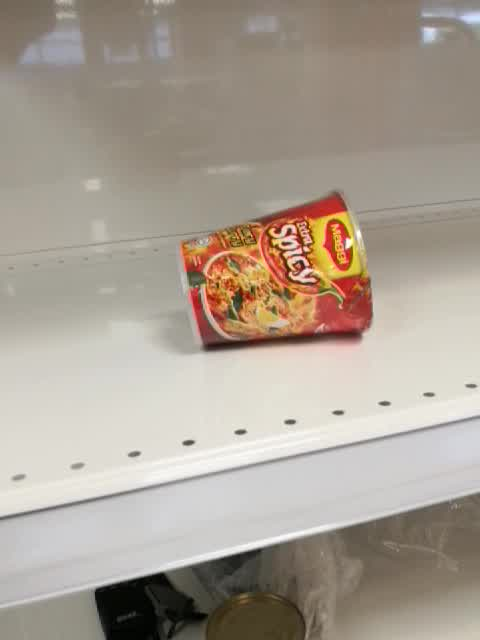maggi: (174, 189, 374, 351)
